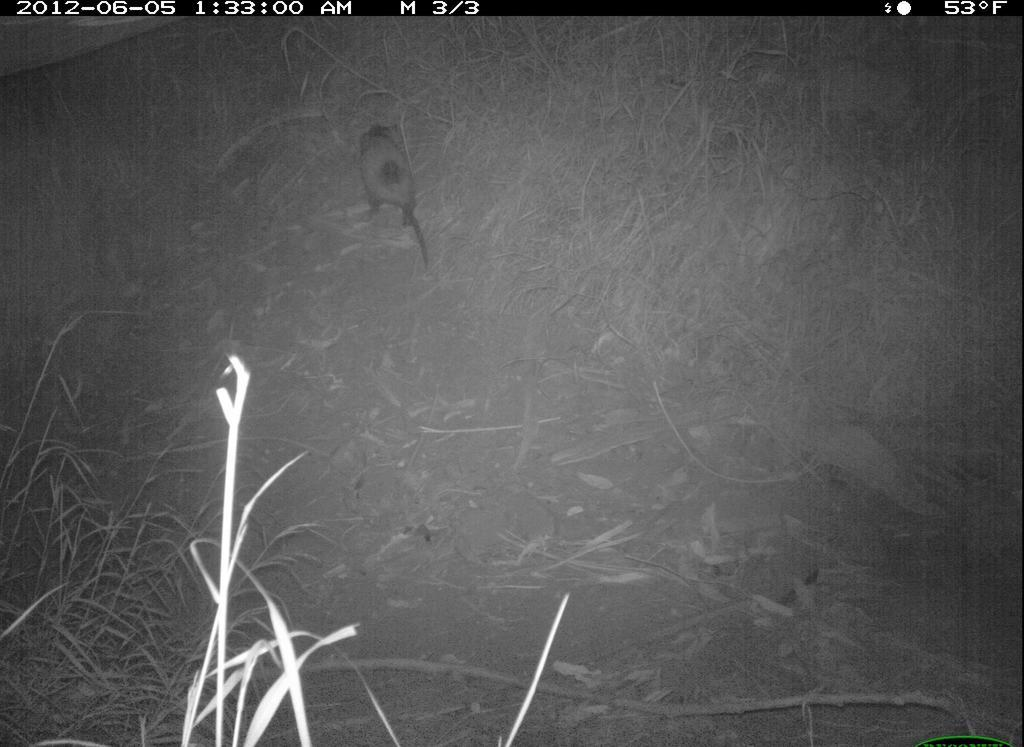opossum: (337, 94, 440, 249)
